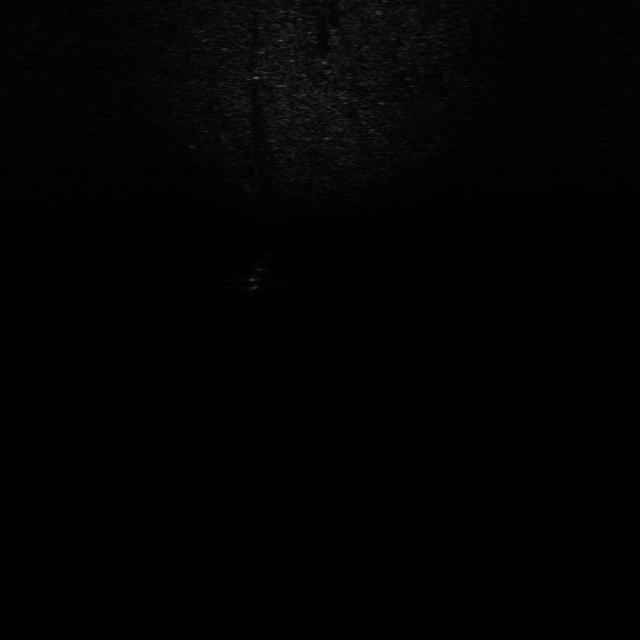human body: (238, 248, 278, 310)
